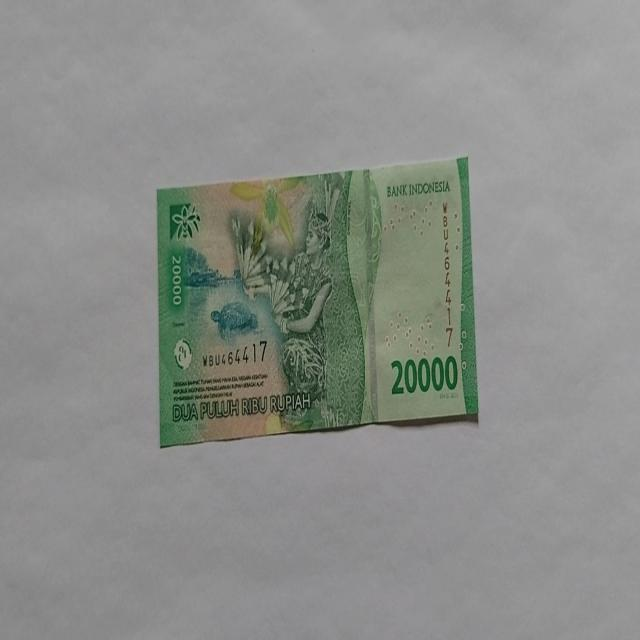dua puluh ribu rupiah: (156, 154, 479, 448)
